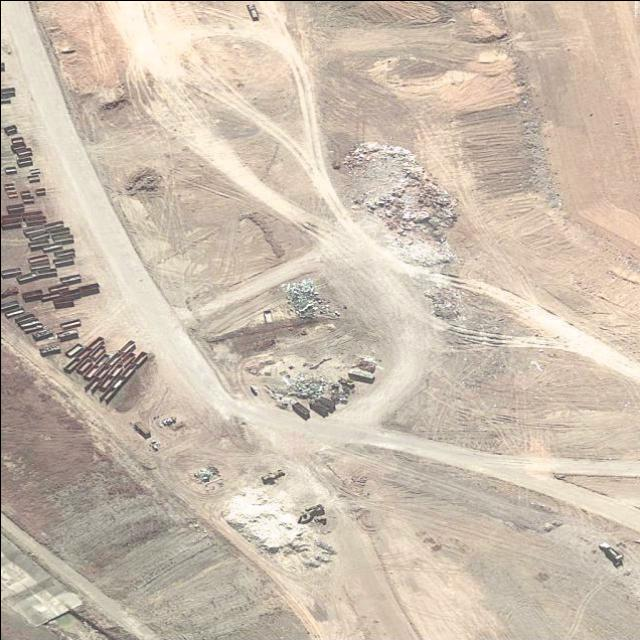dump_site: (321, 130, 494, 279), (274, 278, 340, 322), (415, 280, 469, 326), (263, 373, 336, 403), (189, 464, 221, 486)
